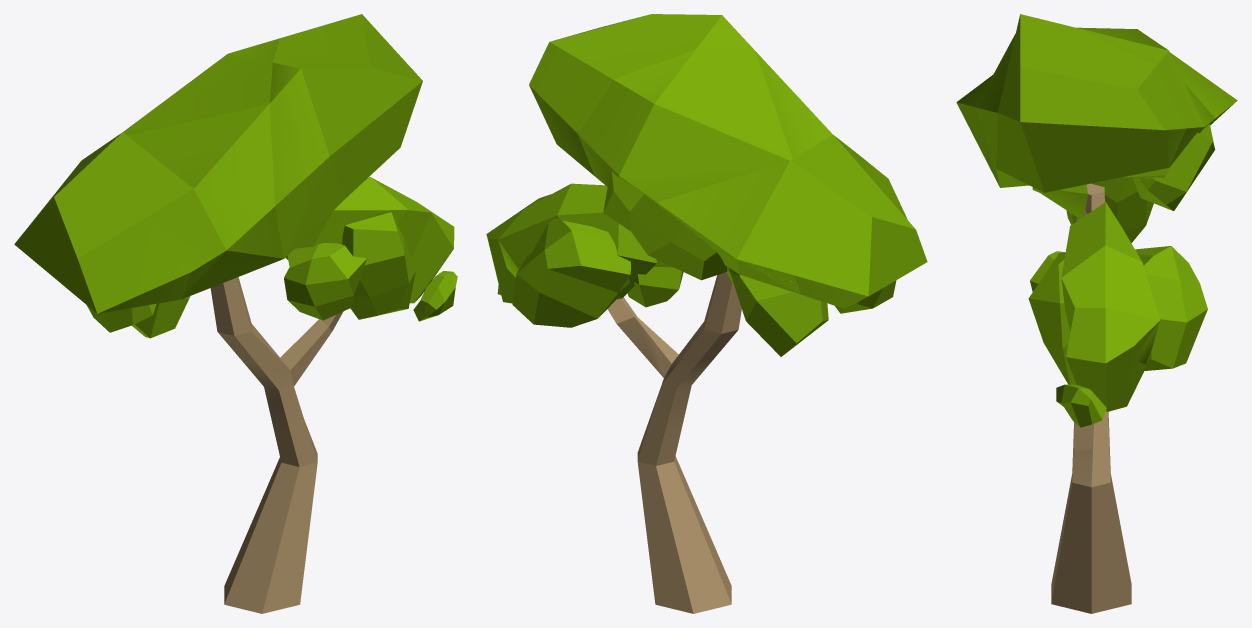
3 renders of one model, left to right at view 1: azimuth 30°, elevation 25°; view 2: azimuth 150°, elevation 25°; view 3: azimuth 270°, elevation 25°, orthographic. The views are drawn at different scales.
Parts seen in each view (by area): view 1: polySurface202, polySurface203, polySurface204, polySurface184, polySurface205, polySurface180, polySurface210, polySurface186, polySurface199, polySurface198, polySurface188, polySurface191 (+6 smaller); view 2: polySurface205, polySurface203, polySurface202, polySurface184, polySurface208, polySurface201, polySurface206, polySurface186, polySurface196, polySurface199, polySurface204, polySurface197 (+9 smaller); view 3: polySurface202, polySurface184, polySurface198, polySurface197, polySurface205, polySurface208, polySurface199, polySurface210, polySurface207, polySurface209, polySurface178, polySurface201 (+7 smaller).
Part boxes in pixels (<box>): polySurface202: <box>270,14,422,258</box>; polySurface203: <box>14,132,226,313</box>; polySurface204: <box>127,104,283,298</box>; polySurface184: <box>224,427,317,613</box>; polySurface205: <box>123,38,279,135</box>; polySurface180: <box>284,243,366,320</box>; polySurface210: <box>342,211,415,297</box>; polySurface186: <box>242,360,309,493</box>; polySurface199: <box>285,177,408,259</box>; polySurface198: <box>410,203,454,303</box>; polySurface188: <box>214,309,290,370</box>; polySurface191: <box>280,319,331,386</box>; polySurface205: <box>578,49,792,204</box>; polySurface203: <box>737,134,927,308</box>; polySurface202: <box>529,14,753,175</box>; polySurface184: <box>637,427,731,613</box>; polySurface208: <box>516,218,630,318</box>; polySurface201: <box>657,161,800,294</box>; polySurface206: <box>629,194,727,280</box>; polySurface186: <box>644,359,713,492</box>; polySurface196: <box>746,292,828,356</box>; polySurface199: <box>557,183,656,298</box>; polySurface204: <box>755,51,832,158</box>; polySurface197: <box>498,184,621,299</box>; polySurface202: <box>975,14,1186,192</box>; polySurface184: <box>1051,449,1131,613</box>; polySurface198: <box>1066,308,1159,411</box>; polySurface197: <box>1061,245,1159,364</box>; polySurface205: <box>1076,27,1215,178</box>; polySurface208: <box>1135,246,1207,322</box>; polySurface199: <box>1061,202,1141,277</box>; polySurface210: <box>1028,252,1070,348</box>; polySurface207: <box>1139,124,1215,204</box>; polySurface209: <box>1144,309,1207,370</box>; polySurface178: <box>1056,384,1106,427</box>; polySurface201: <box>1170,52,1237,125</box>.
Bounding box in the file's own units: 713 × 915 × 400.
